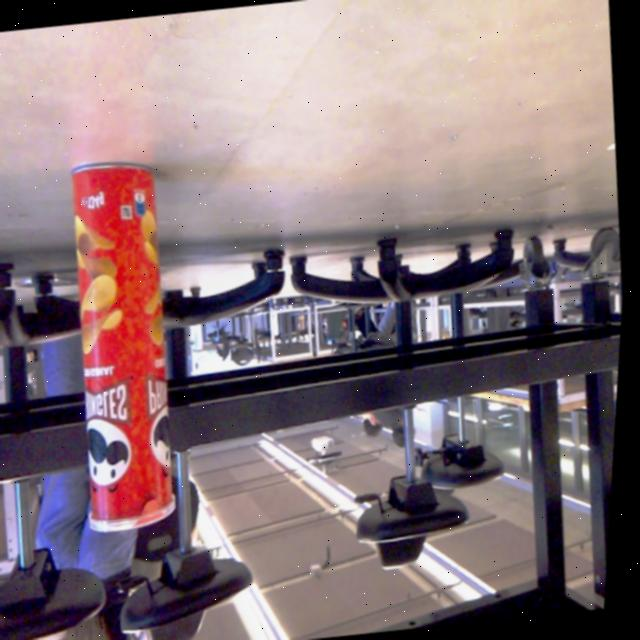redpringles: (39, 145, 215, 544)
